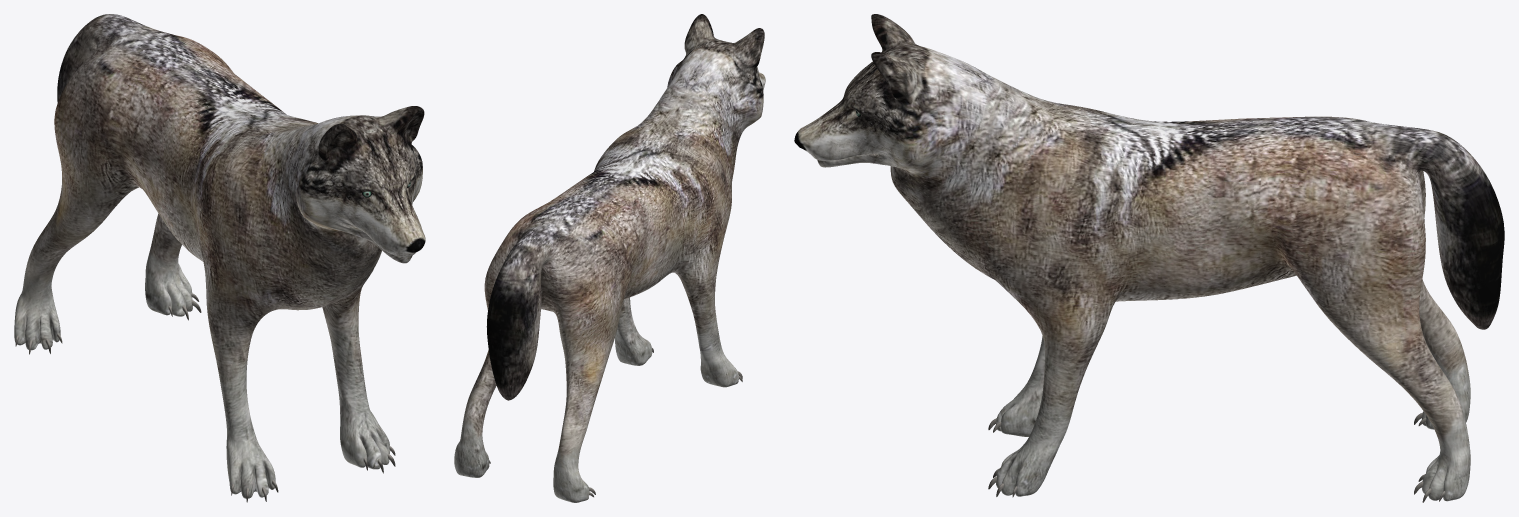
File: worf.fbx
The picture shows the model from 3 angles, left to right: view 1: azimuth 30°, elevation 25°; view 2: azimuth 150°, elevation 25°; view 3: azimuth 270°, elevation 25°; orthographic projection. The views are drawn at different scales.
Parts seen in each view (by area): view 1: 10055_Gray_Wolf_v1_L3; view 2: 10055_Gray_Wolf_v1_L3; view 3: 10055_Gray_Wolf_v1_L3.
Part boxes in pixels (bbox=[...]): 10055_Gray_Wolf_v1_L3: bbox=[14, 14, 425, 502]; 10055_Gray_Wolf_v1_L3: bbox=[454, 14, 765, 502]; 10055_Gray_Wolf_v1_L3: bbox=[794, 14, 1504, 502].
Bounding box in the file's own units: 40.11 × 86.1 × 130.
1 material, 1 textured.
